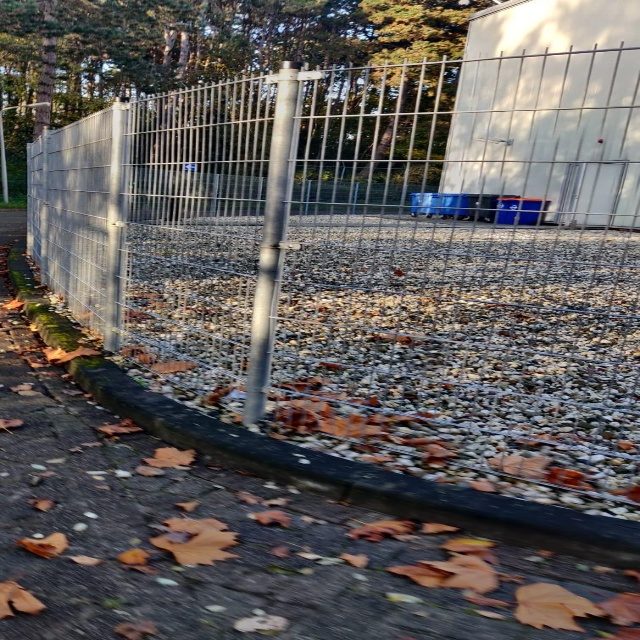obstacle: (77, 0, 565, 640)
